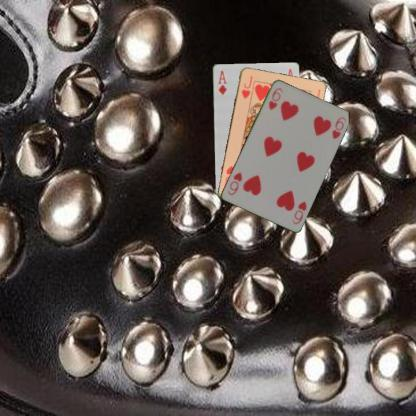6h: (289, 198, 308, 226), (266, 85, 284, 111)
Ad: (216, 67, 228, 96)
Jh: (238, 74, 254, 100)
